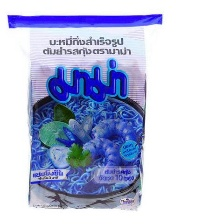snack: (0, 4, 167, 219)
